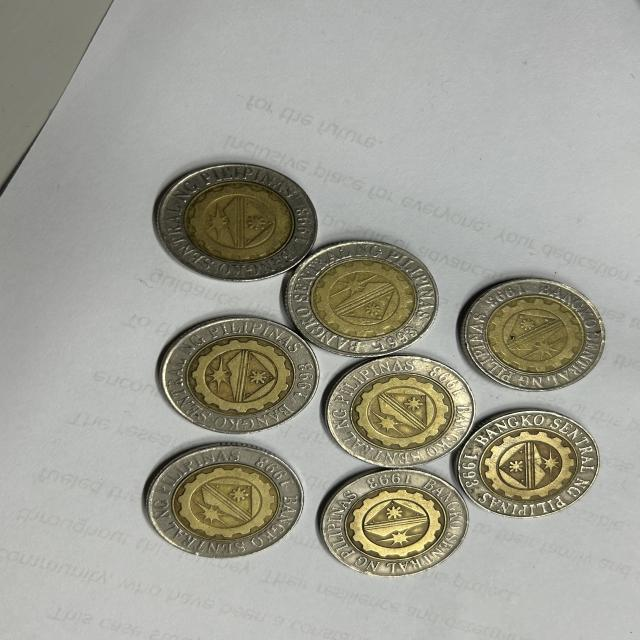10_Old_Back: (154, 163, 318, 281), (152, 321, 323, 432), (138, 442, 298, 554), (328, 352, 479, 461), (293, 234, 436, 348), (460, 403, 598, 516), (327, 468, 461, 576), (455, 279, 588, 385)
